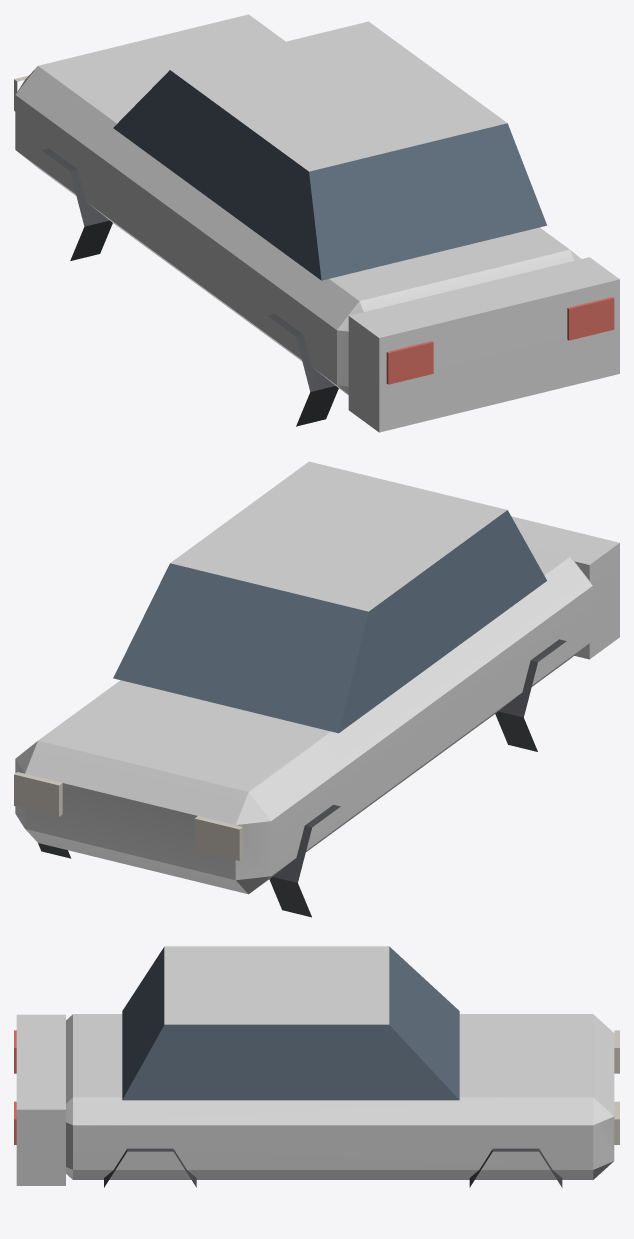
File: car.glb
3 renders of one model, top to bottom at view 1: azimuth 30°, elevation 25°; view 2: azimuth 150°, elevation 25°; view 3: azimuth 270°, elevation 25°, orthographic. The views are drawn at different scales.
Parts seen in each view (by area): view 1: car; view 2: car; view 3: car.
Boxes of the visible parts, x1,y1,x2,y2 form: car: [14, 14, 619, 432]; car: [14, 461, 619, 917]; car: [14, 946, 619, 1187].
Bounding box in the file's own units: 1.8 × 1.46 × 4.31.
